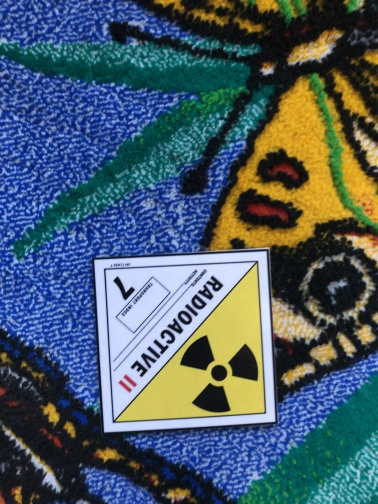Radioactive: (92, 250, 277, 433)
